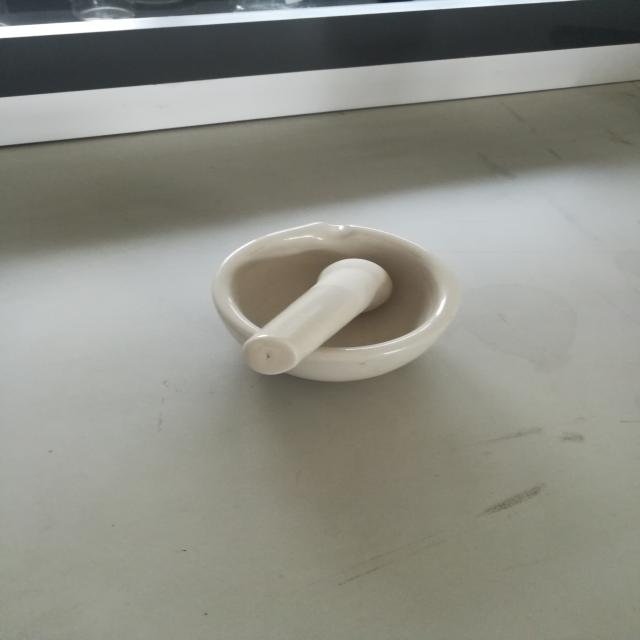Porcelain_Mortar Pestle: (160, 176, 470, 453)
